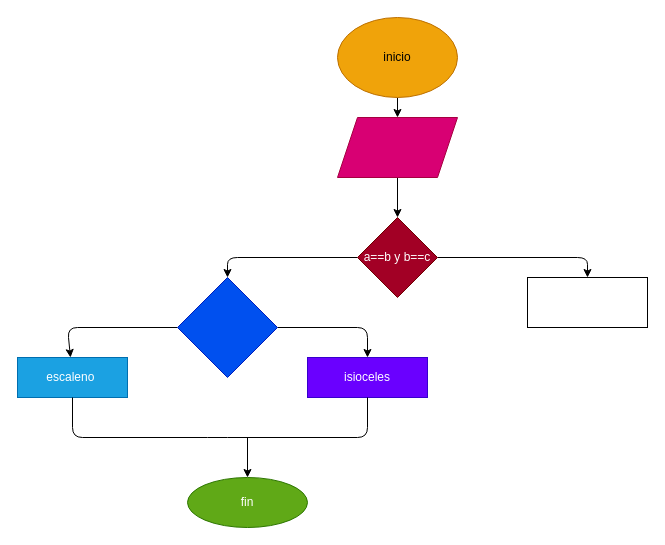
Image size: 665x545. Some labels were removed from this diagram. Each missing label, with the centre of its shape:
a.b.c: pixel 397 147
a==b o b==c o c==a o c==b: pixel 227 327
equilatero: pixel 587 302
